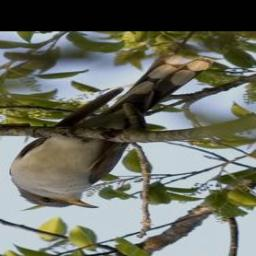Cuckoo: (8, 55, 212, 209)
